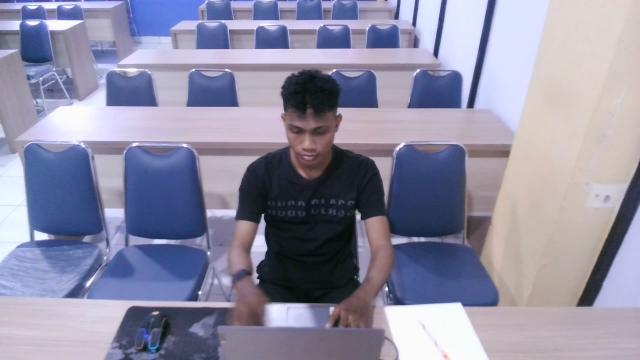Normal_Focus: (197, 61, 428, 360)
